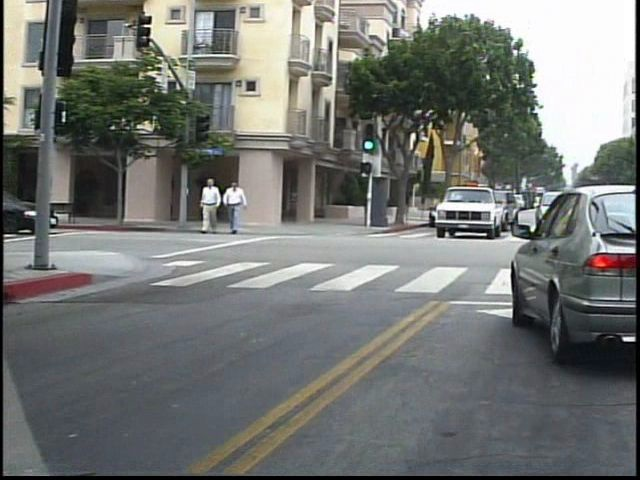person: (230, 175, 258, 239), (204, 175, 229, 241)
